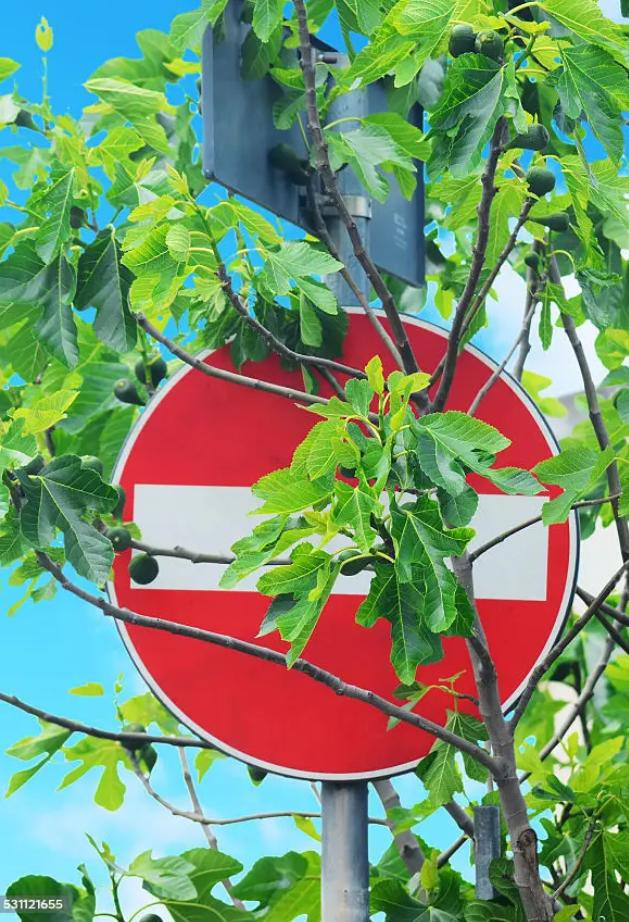obstructed_road_sign: (100, 308, 581, 786)
